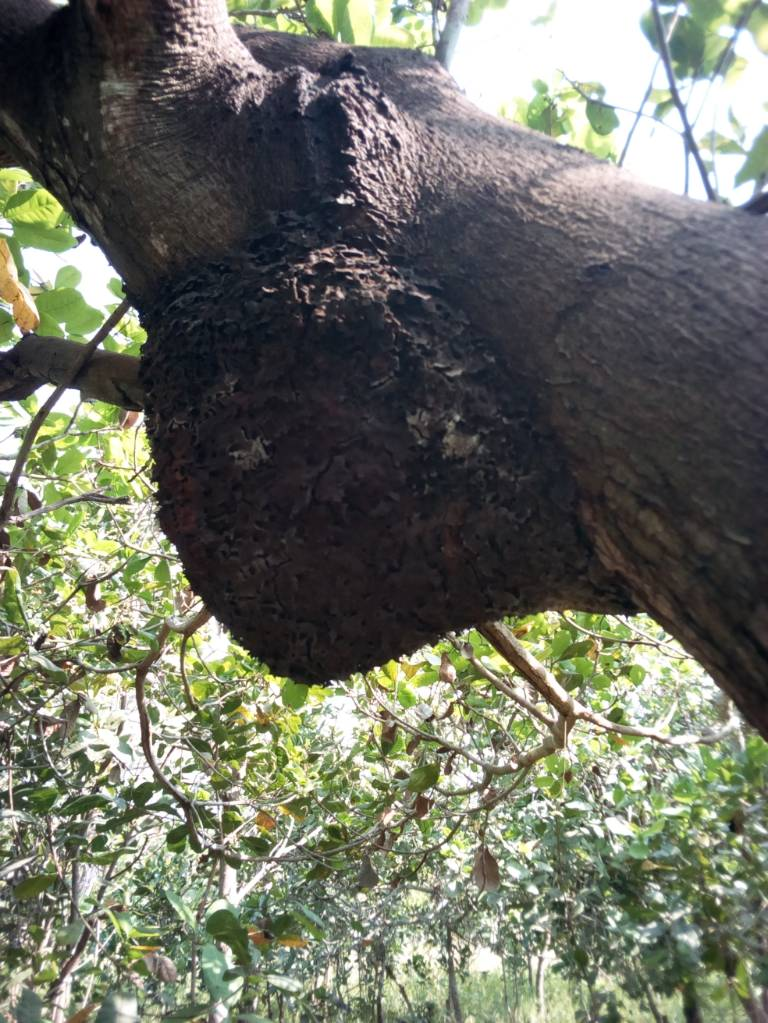Termites: (161, 63, 571, 674)
